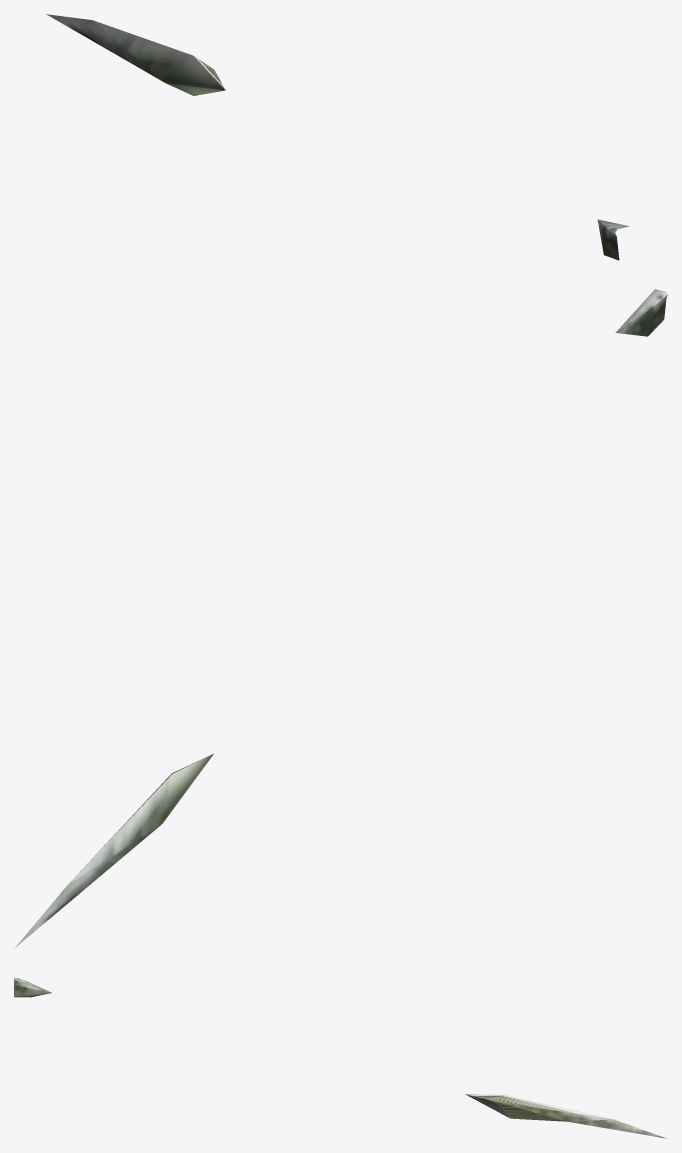
3 renders of one model, top to bottom at view 1: azimuth 30°, elevation 25°; view 2: azimuth 150°, elevation 25°; view 3: azimuth 270°, elevation 25°, orthographic. The views are drawn at different scales.
Size of the model in its own units: 0.3296 by 1.06 by 4.41.
Materials: 1 (1 with a texture image).
